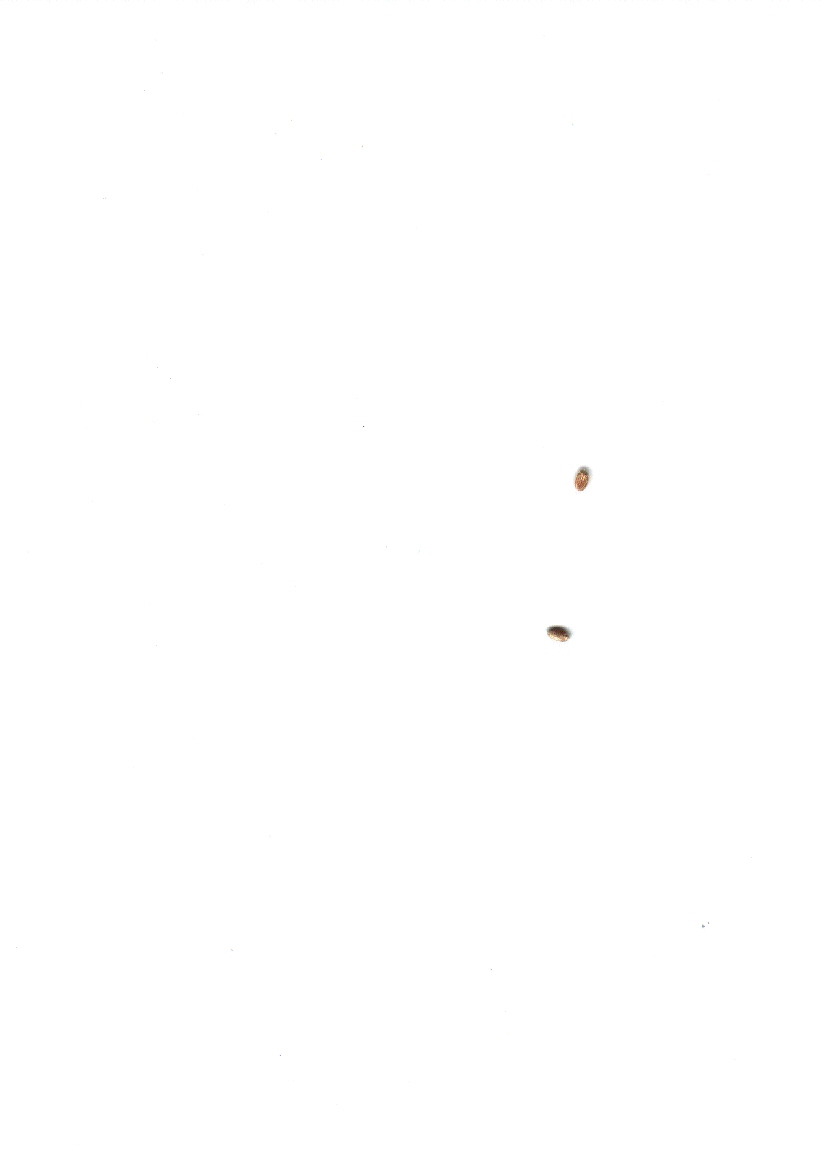grains: (536, 615, 588, 654), (568, 459, 605, 502)
